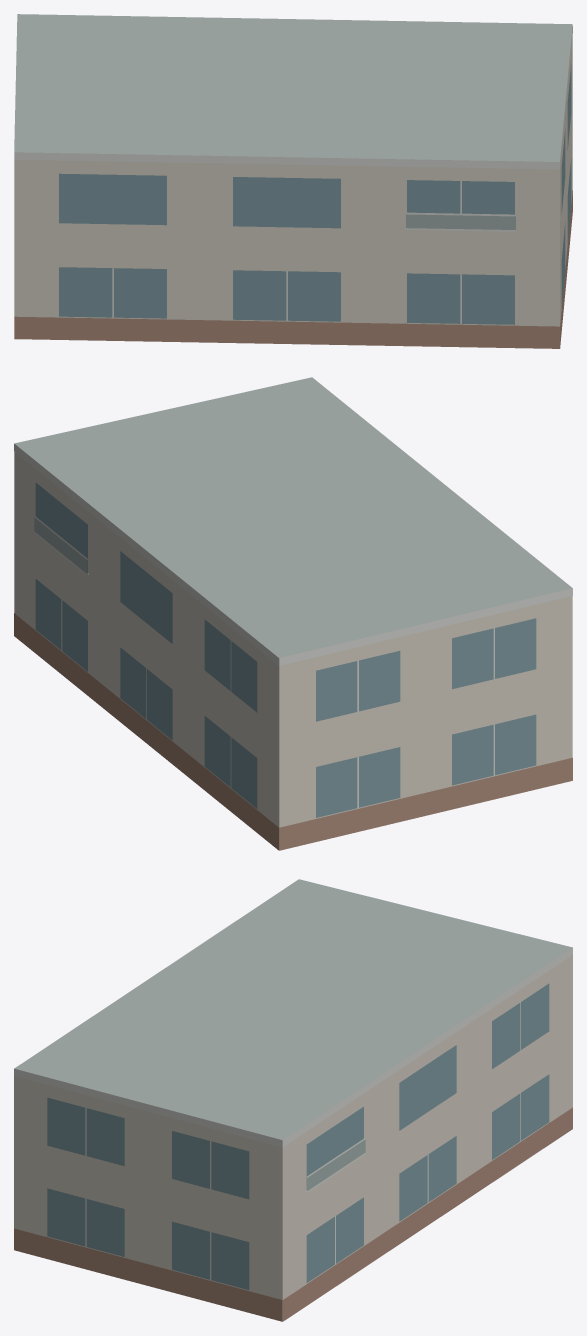
The model's file is survey-upis-32830383.glb.
The picture shows the model from 3 angles, top to bottom: view 1: azimuth 30°, elevation 25°; view 2: azimuth 150°, elevation 25°; view 3: azimuth 270°, elevation 25°; orthographic projection. The views are drawn at different scales.
Parts seen in each view (by area): view 1: survey-upis-32830383.tmp; view 2: survey-upis-32830383.tmp; view 3: survey-upis-32830383.tmp.
Boxes of the visible parts, x1=… form: survey-upis-32830383.tmp: x1=14, y1=14, x2=572, y2=348; survey-upis-32830383.tmp: x1=14, y1=377, x2=572, y2=850; survey-upis-32830383.tmp: x1=14, y1=879, x2=572, y2=1321.
Bounding box in the file's own units: 18.82 × 6.1 × 17.02.
